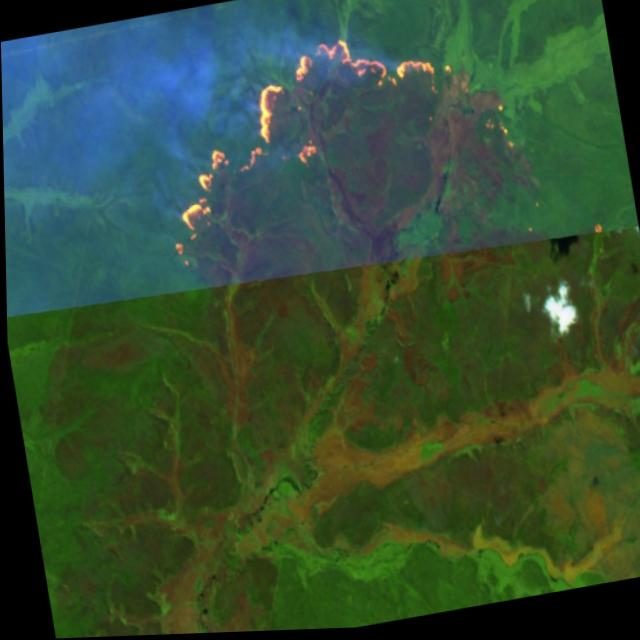fire: (132, 12, 483, 275)
